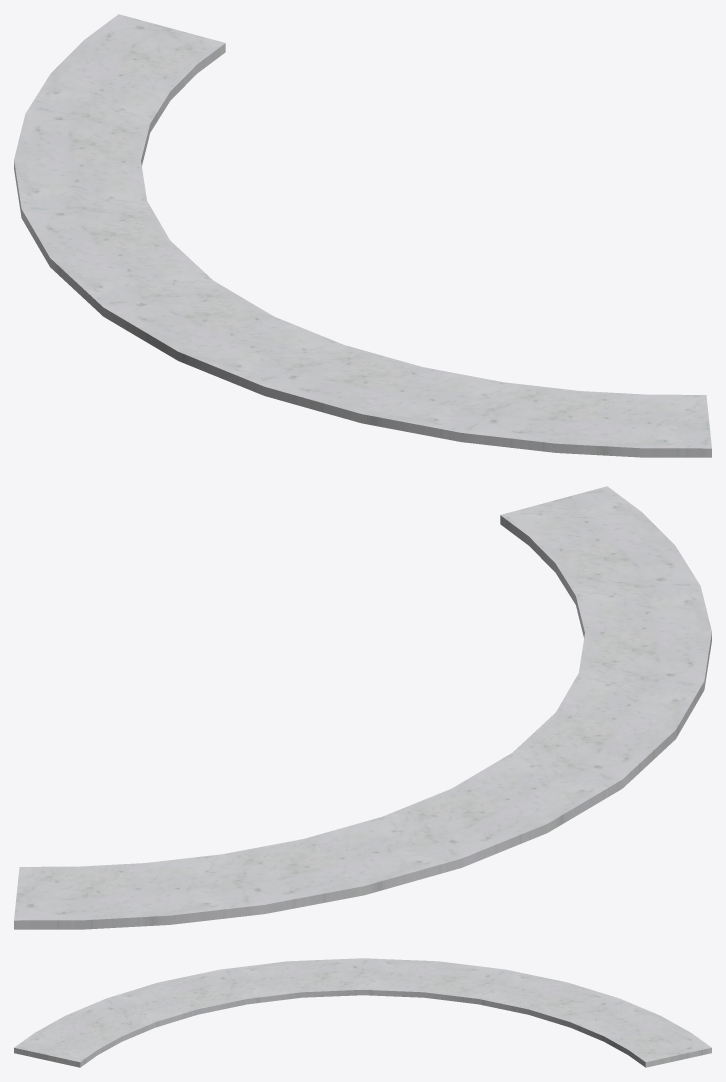
The model's file is MPShed1.fbx.
The picture shows the model from 3 angles, top to bottom: view 1: azimuth 30°, elevation 25°; view 2: azimuth 150°, elevation 25°; view 3: azimuth 270°, elevation 25°; orthographic projection. The views are drawn at different scales.
Parts seen in each view (by area): view 1: MPShed1; view 2: MPShed1; view 3: MPShed1.
Part boxes in pixels (x1=…): MPShed1: x1=14, y1=14, x2=711, y2=457; MPShed1: x1=14, y1=486, x2=711, y2=929; MPShed1: x1=14, y1=958, x2=711, y2=1067.
Size of the model in its own units: 26.61 by 0.65 by 75.4.
